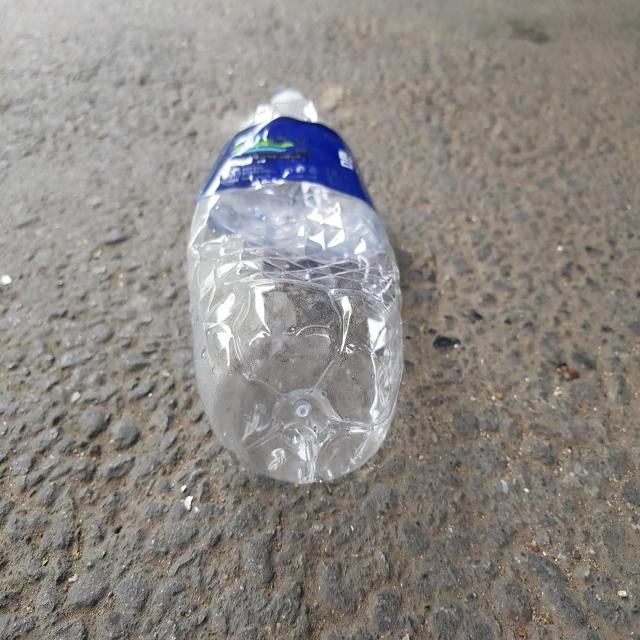plastic: (187, 88, 403, 484)
